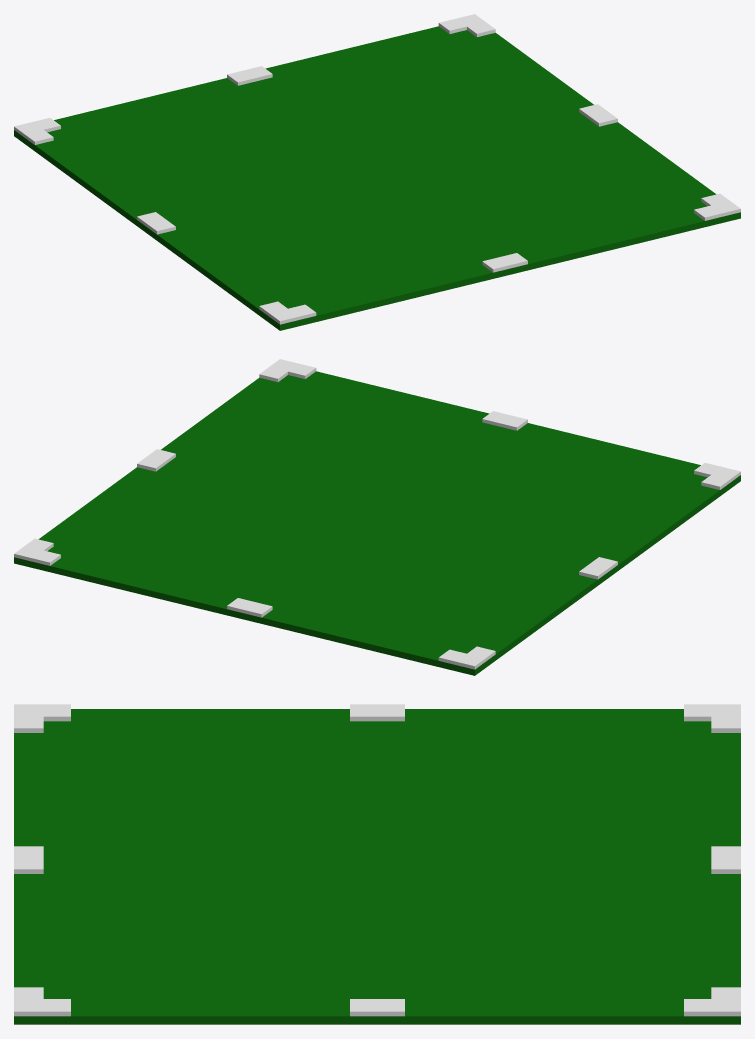
The model's file is M_ConstructPlane.fbx.
The picture shows the model from 3 angles, top to bottom: view 1: azimuth 30°, elevation 25°; view 2: azimuth 150°, elevation 25°; view 3: azimuth 270°, elevation 25°; orthographic projection. The views are drawn at different scales.
Visible parts, largest first — view 1: Plane001; view 2: Plane001; view 3: Plane001.
Boxes of the visible parts, x1,y1,x2,y2 form: Plane001: (14, 14, 740, 330); Plane001: (14, 359, 740, 675); Plane001: (14, 704, 740, 1024).
Bounding box in the file's own units: 500 × 10.04 × 500.
